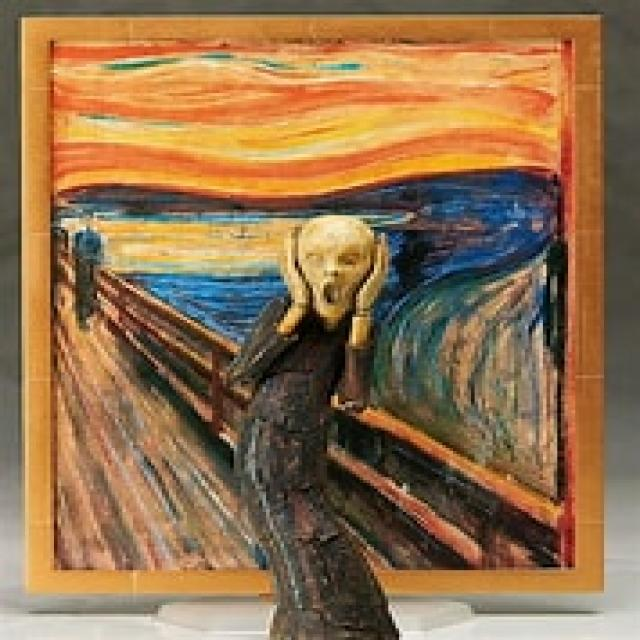skrik: (38, 31, 597, 583)
